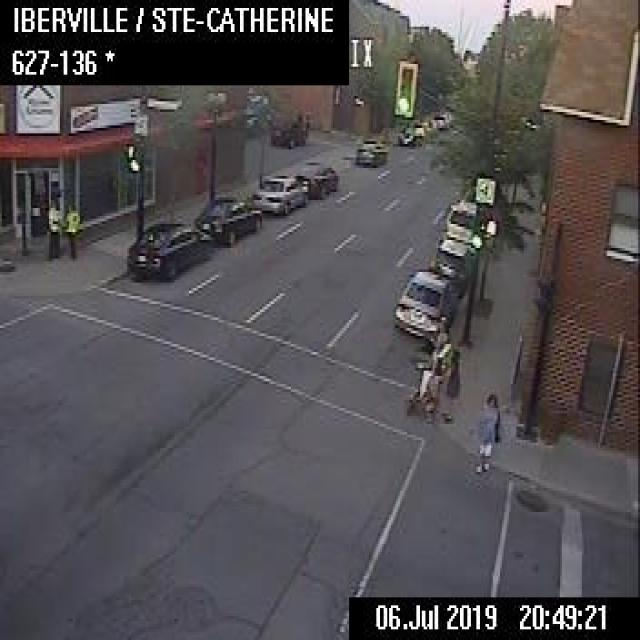pedestrian: (406, 332, 462, 426), (474, 389, 500, 472), (428, 316, 450, 410), (64, 200, 80, 259), (46, 197, 58, 256)
vehicle: (125, 220, 213, 278), (393, 266, 457, 338), (192, 194, 261, 243), (432, 236, 474, 292), (250, 172, 307, 213), (444, 199, 476, 246), (295, 162, 338, 196), (269, 112, 306, 146), (354, 136, 387, 165), (396, 123, 415, 144), (428, 112, 449, 127), (409, 118, 425, 136)
